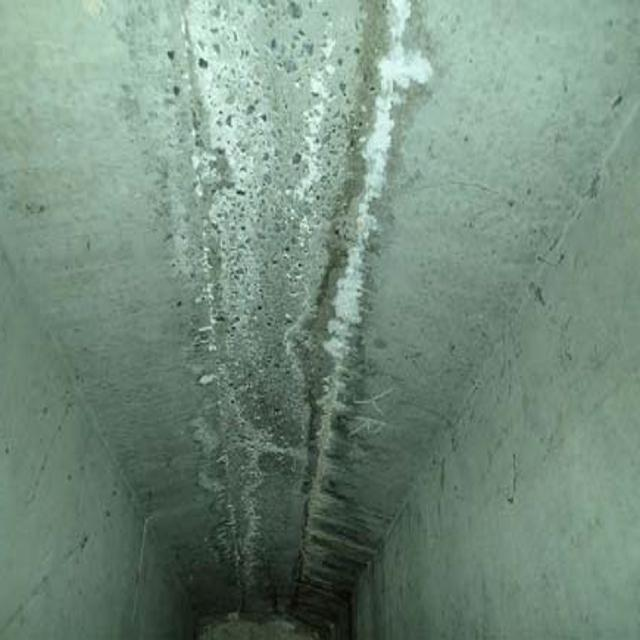freelime: (301, 21, 430, 568)
